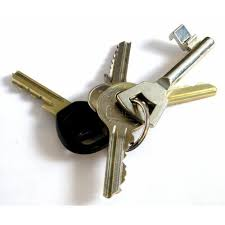key: (11, 24, 216, 201)
